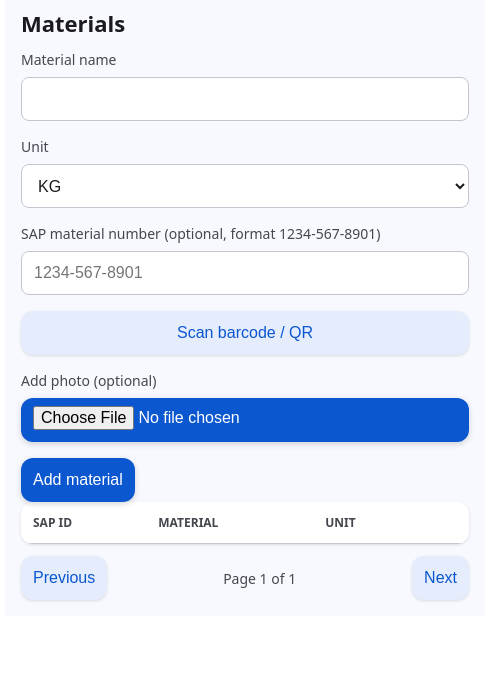
Test: MaterialsPage › adds a material against an existing unit
Step 1. Type "Kraft Paper" into the field labelled "Material name" → (245, 99), box left=21, top=77, right=469, bottom=121
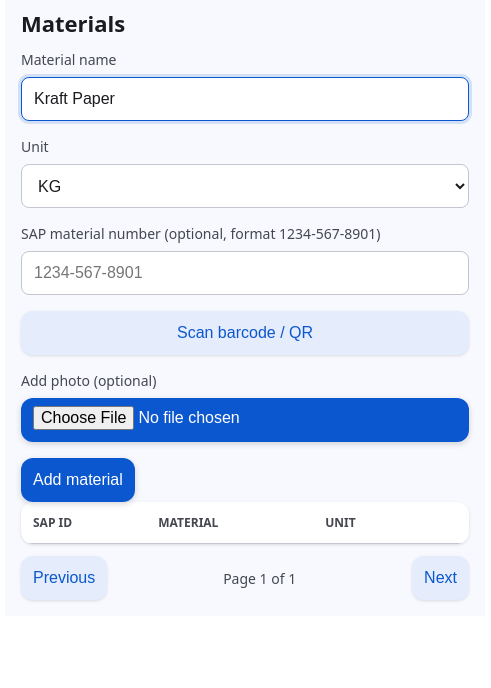
Step 2. Select "KG" in the dropdown labelled "Unit" → (245, 186), box left=21, top=164, right=469, bottom=208
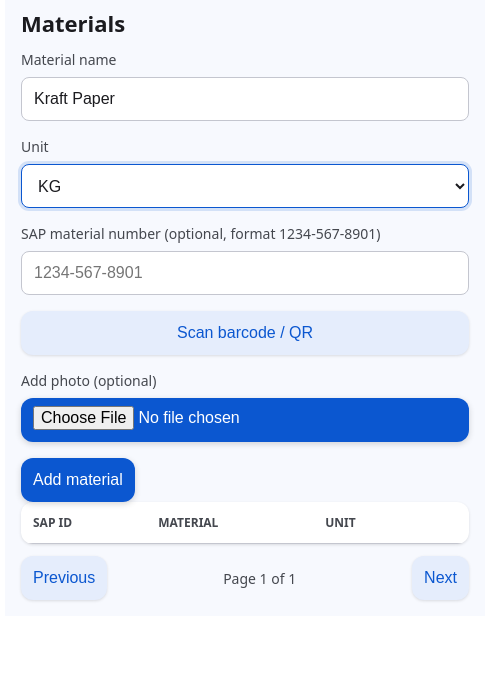
Step 3. Click the button "Add material" → (78, 480), box left=21, top=458, right=135, bottom=502
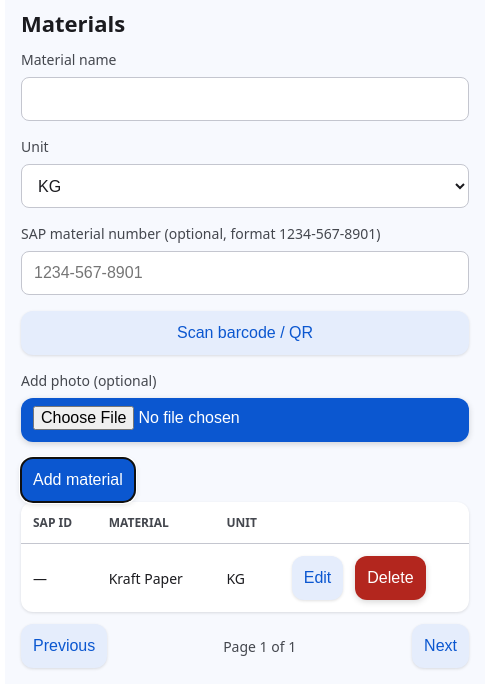
expect the text "Kraft Paper" is shown: met, box left=97, top=544, right=214, bottom=612
